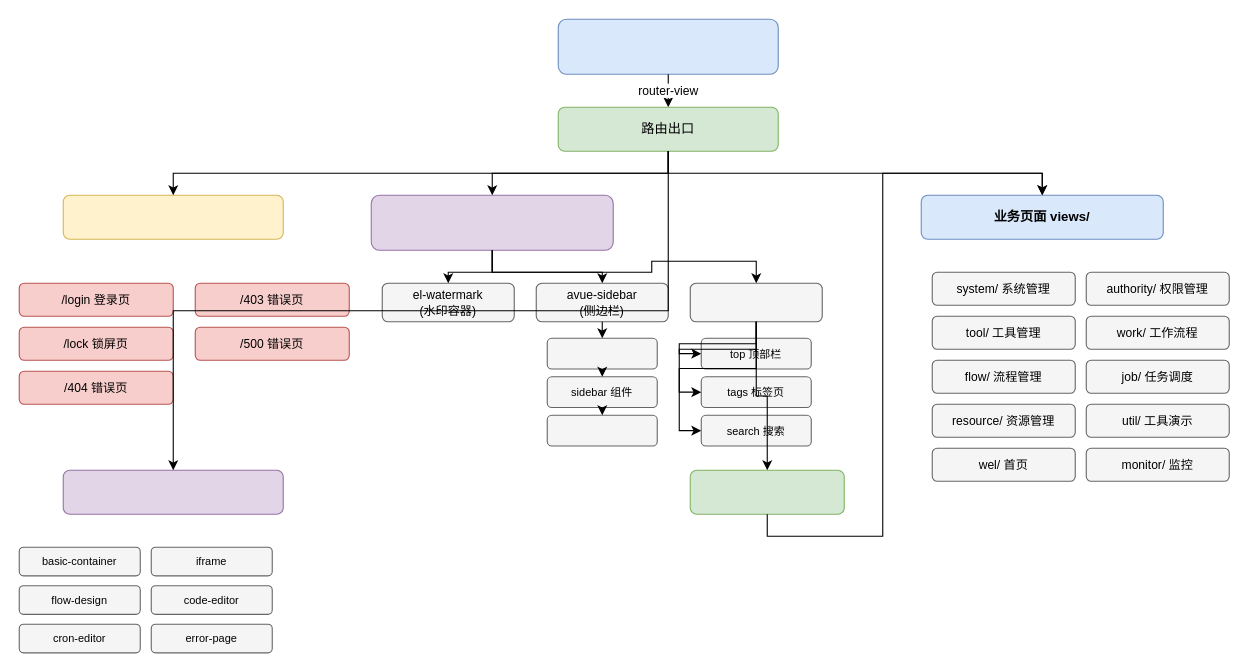
Image size: 1249x672. Some labels were removed from this diagram. Each missing label, with the centre of its shape:
"App.vue (根组件)" belongs at point (667, 46).
"avue-main (主内容区)" belongs at point (755, 302).
"logo 组件" belongs at point (601, 353).
"router-view + keep-alive (嵌套路由出口)" belongs at point (766, 491).
"sidebarItem (递归菜单)" belongs at point (601, 430).
"主布局 Layout (page/index/index.vue)" belongs at point (491, 222).
"通用组件" belongs at point (172, 491).
"静态路由页面" belongs at point (172, 216).
